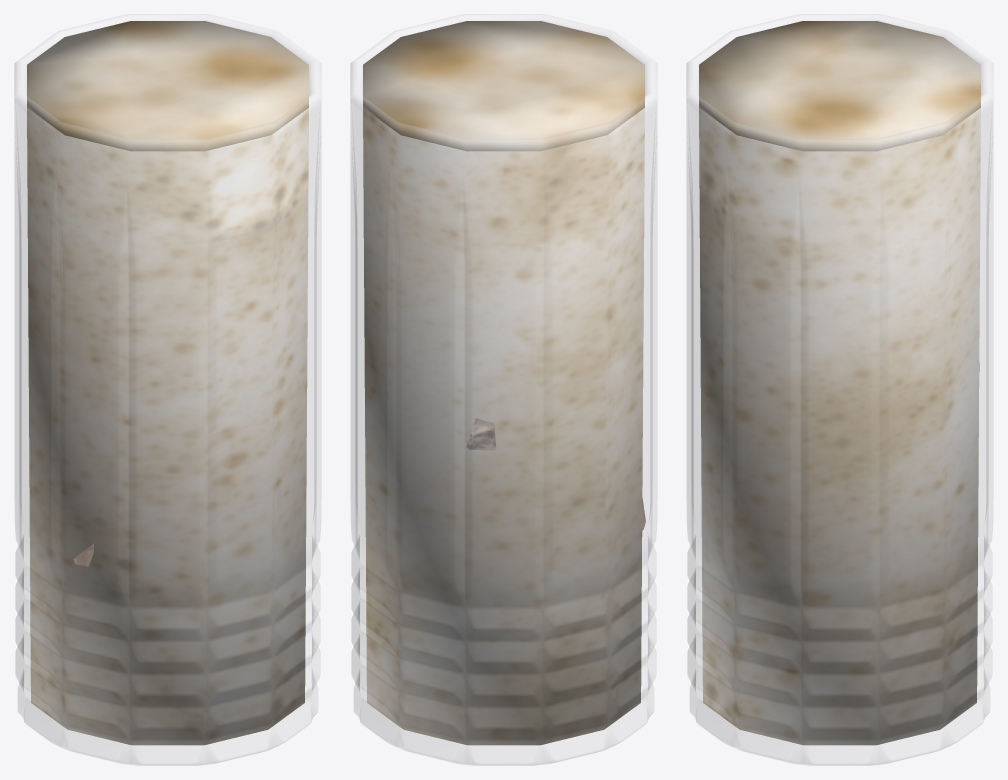
File: vaso_copado_cafetos.glb
3 renders of one model, left to right at view 1: azimuth 30°, elevation 25°; view 2: azimuth 150°, elevation 25°; view 3: azimuth 270°, elevation 25°, orthographic.
Visible parts, largest first — view 1: vaso_vidrio_copado, relleno_licuado, relleno_cold_lact; view 2: vaso_vidrio_copado, relleno_licuado, relleno_cold_lact, relleno_cold_brew; view 3: vaso_vidrio_copado, relleno_licuado, relleno_cold_lact.
Part boxes in pixels (<box>): vaso_vidrio_copado: <box>14,14,321,765</box>; relleno_licuado: <box>27,108,308,745</box>; relleno_cold_lact: <box>27,21,308,151</box>; vaso_vidrio_copado: <box>350,14,657,765</box>; relleno_licuado: <box>363,108,644,745</box>; relleno_cold_lact: <box>363,21,644,151</box>; relleno_cold_brew: <box>466,418,645,530</box>; vaso_vidrio_copado: <box>686,14,993,765</box>; relleno_licuado: <box>699,108,980,745</box>; relleno_cold_lact: <box>699,21,980,151</box>.
Size of the model in its own units: 1.03 by 2.34 by 1.03.
6 materials, 4 textured.
